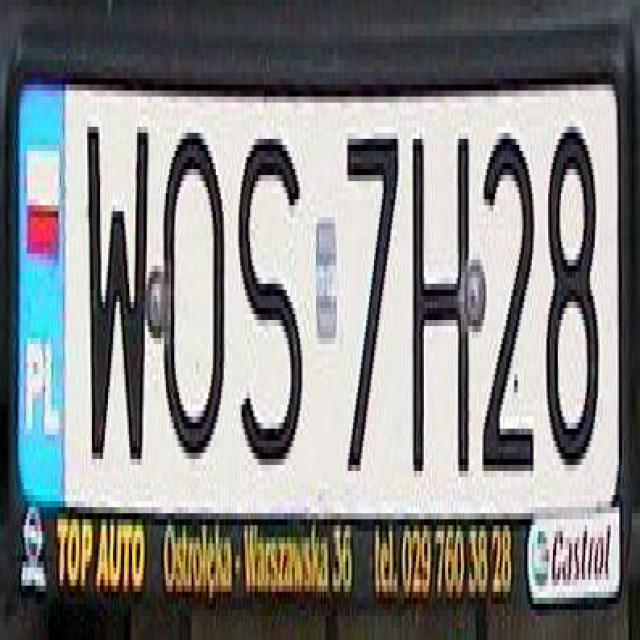pl_license_plate: (15, 73, 619, 501)
